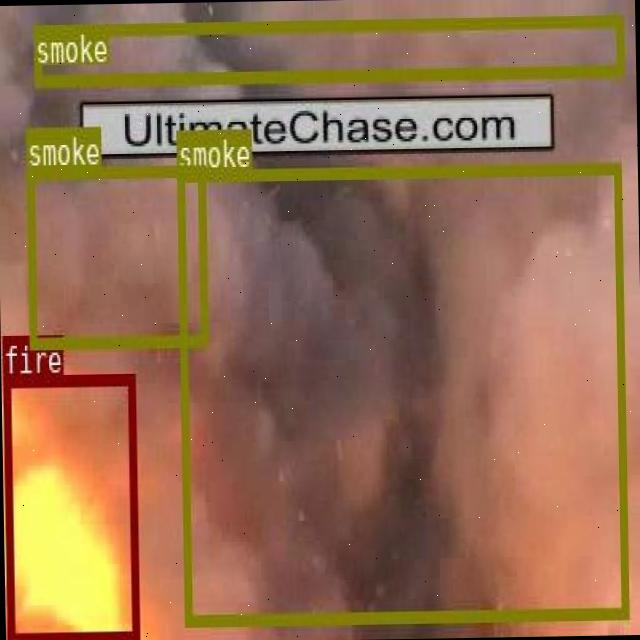fire: (1, 372, 136, 640)
smoke: (176, 161, 626, 624), (32, 15, 622, 84), (25, 164, 206, 345)
